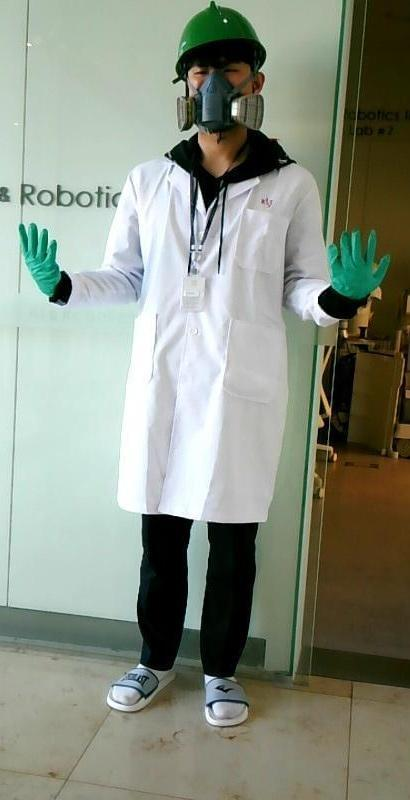lab_coat: (99, 167, 324, 517)
